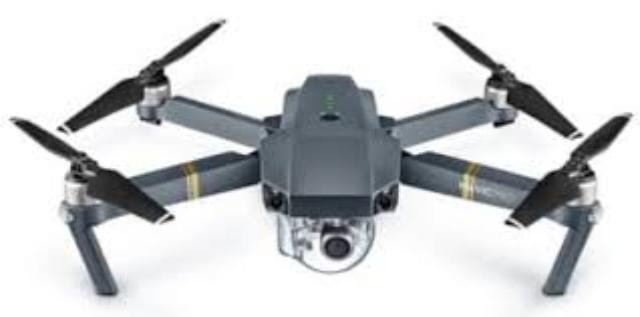drone: (7, 17, 635, 299)
